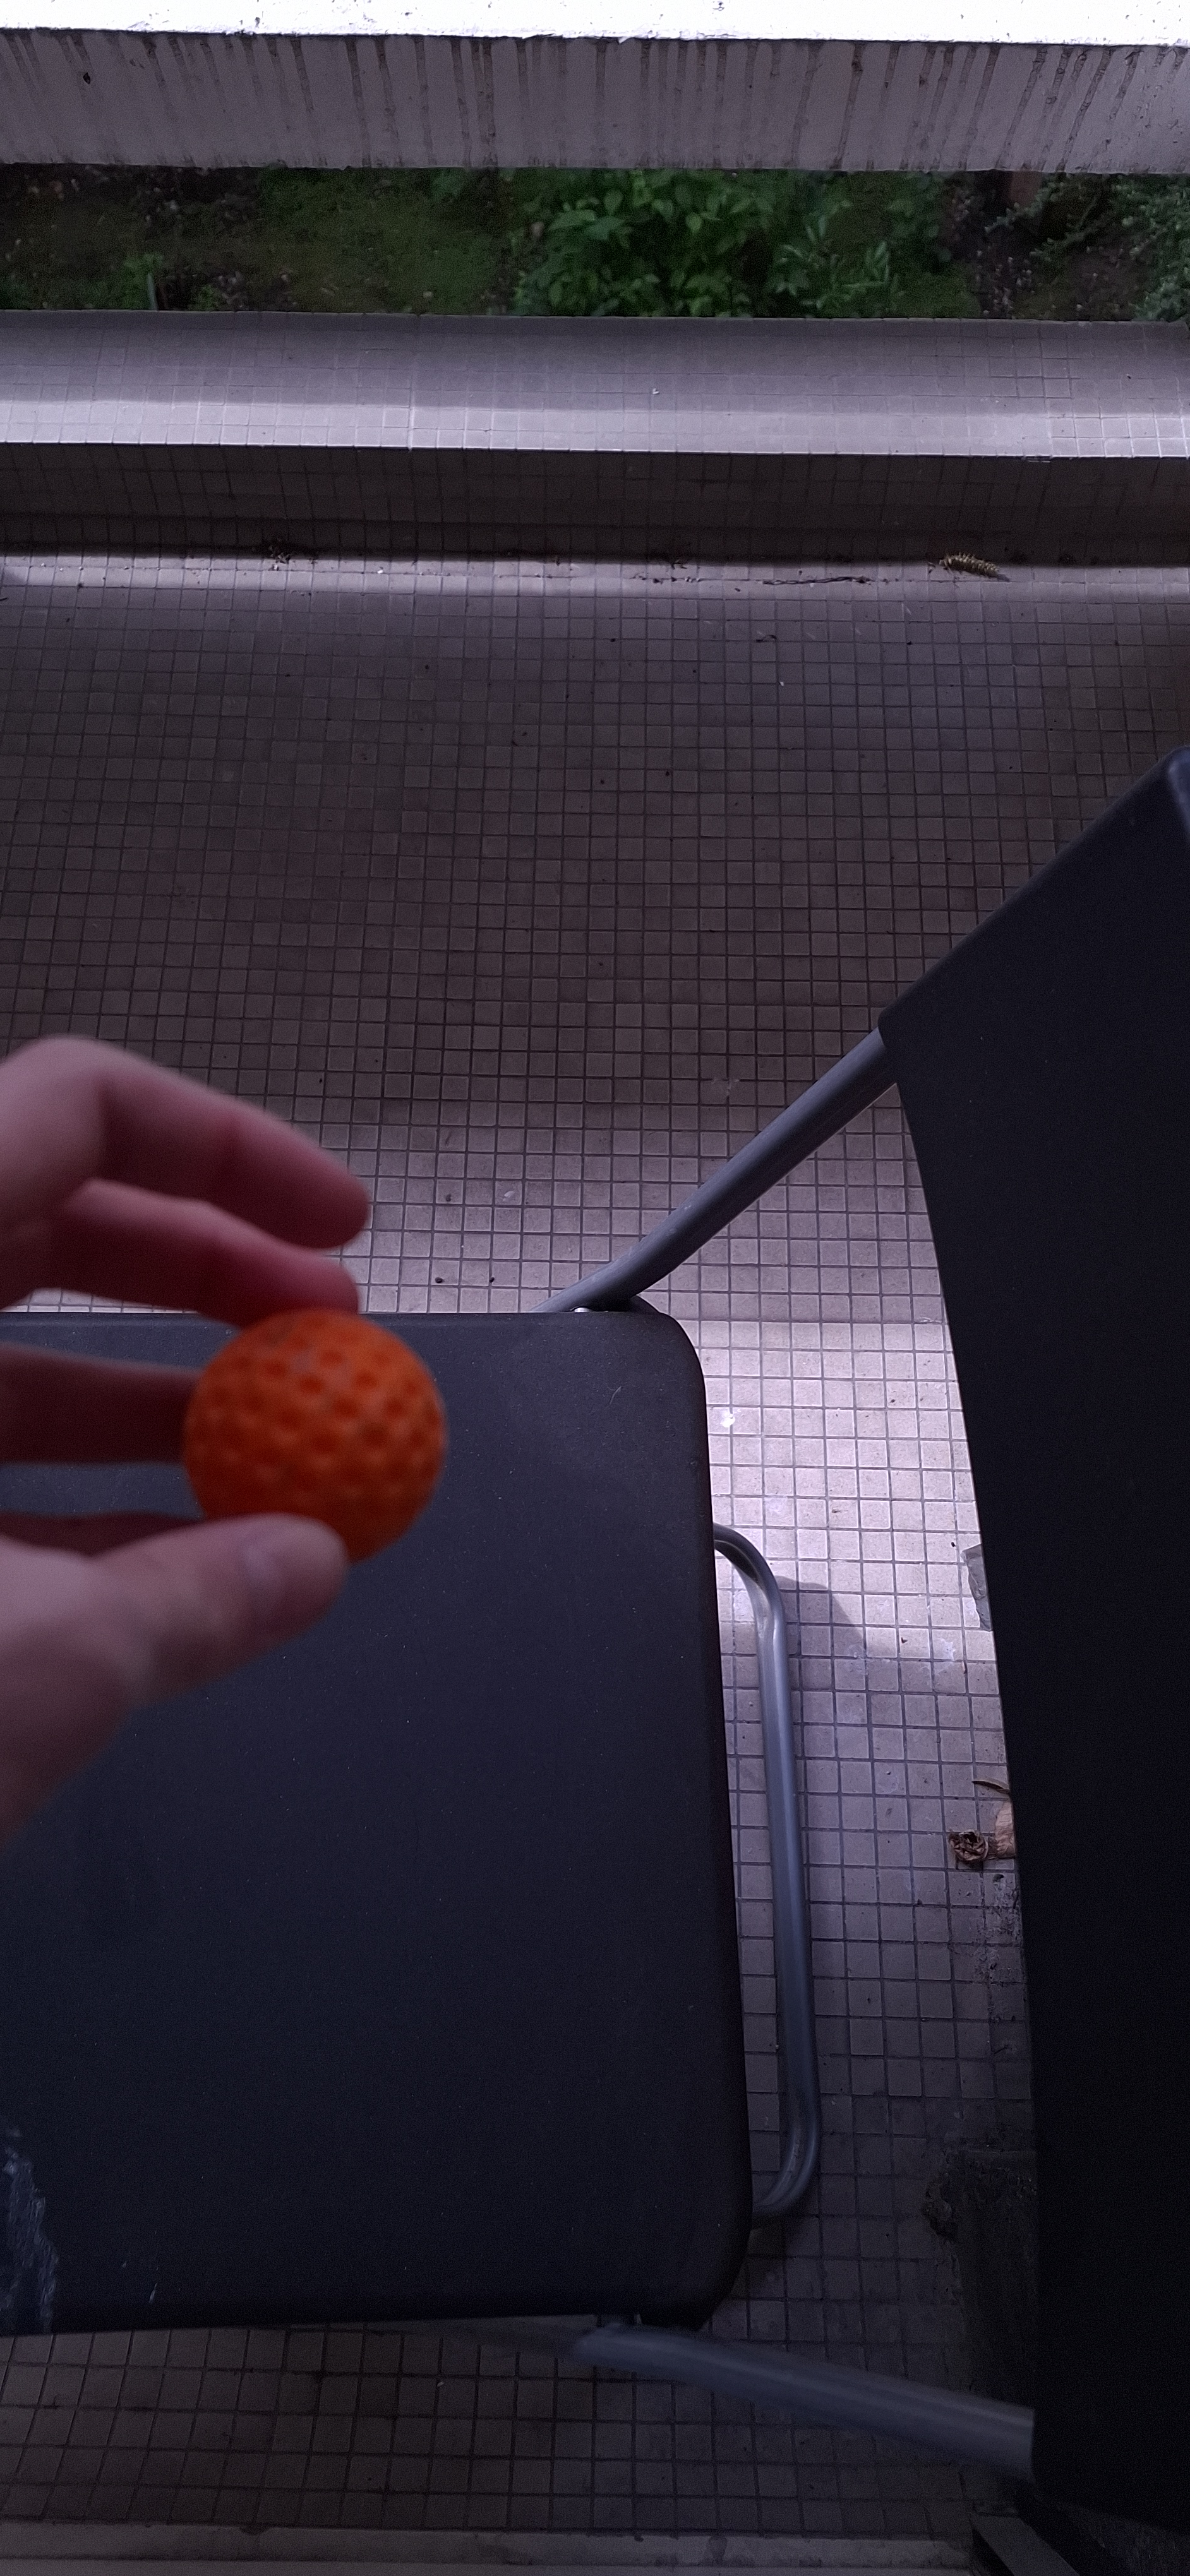ball: (603, 1620, 723, 2172)
